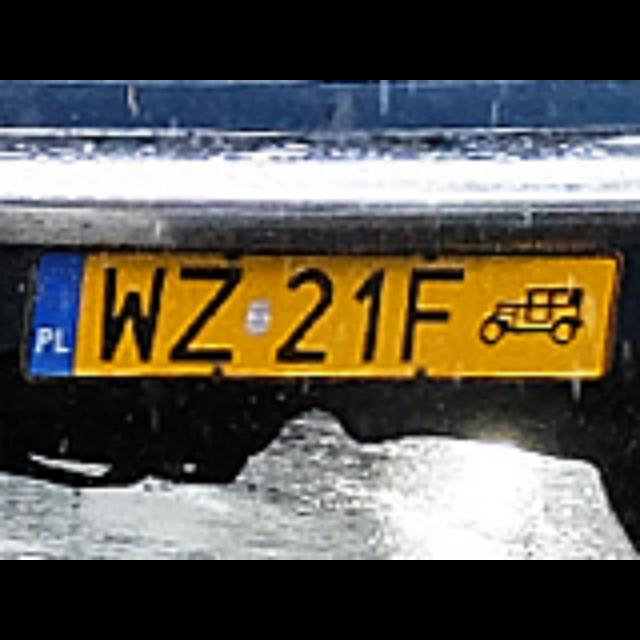pl_license_plate: (28, 248, 616, 372)
